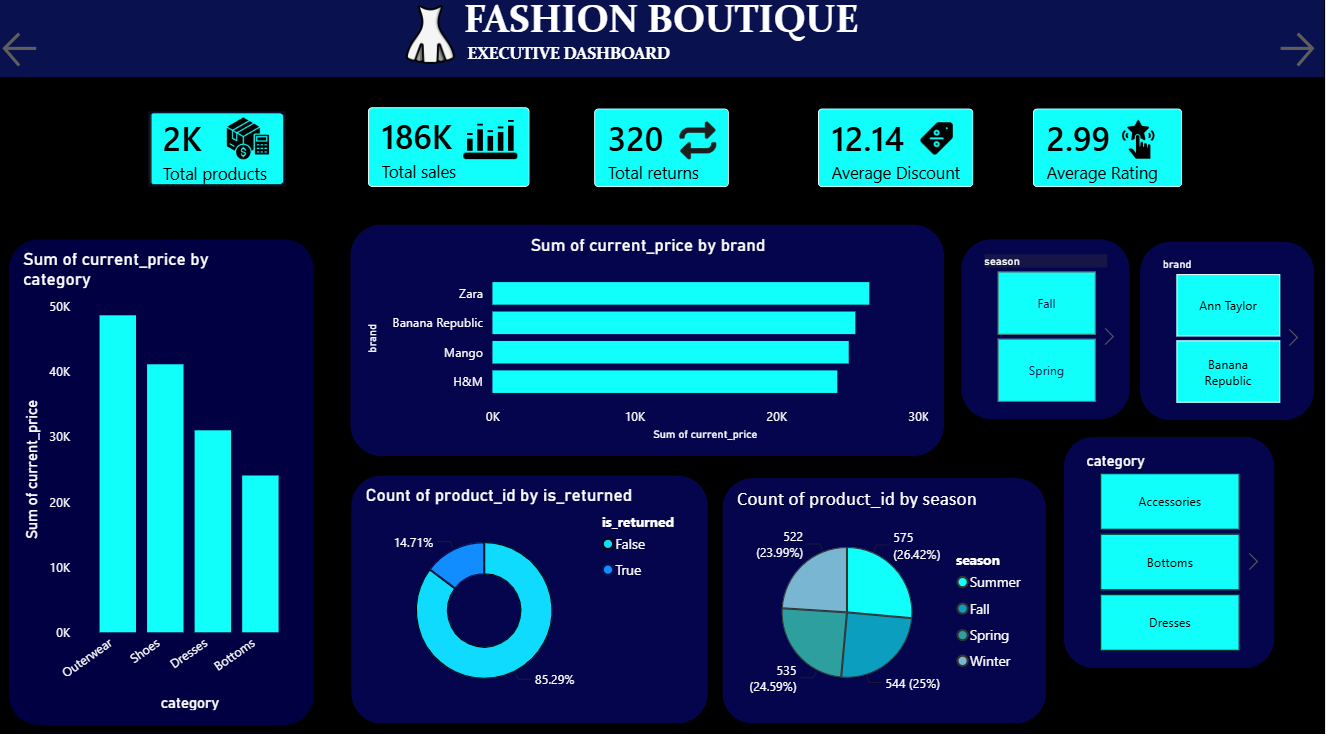

What the dashboard file says about the page in this screenshot:
{"tool":"powerbi","page":{"name":"EXECUTIVE DASHBOARD","canvas":[1280,720],"ordinal":0},"visuals":[{"type":"textbox","box":[0,0,1280.3,78],"z":0},{"type":"pieChart","fields":{"Category":["Fashion_boutique.season"],"Y":["CountNonNull(Fashion_boutique.product_id)"]},"box":[698,469.3,313.3,238],"z":1000},{"type":"slicer","fields":{"Values":["Fashion_boutique.category"]},"box":[1027.4,429,204.4,224.6],"z":2000},{"type":"slicer","fields":{"Values":["Fashion_boutique.brand"]},"box":[1101.4,240.7,169.4,173.5],"z":3000},{"type":"slicer","fields":{"Values":["Fashion_boutique.season"]},"box":[929.3,239.4,164.1,174.8],"z":4000},{"type":"clusteredColumnChart","fields":{"Category":["Fashion_boutique.category"],"Y":["Sum(Fashion_boutique.current_price)"]},"box":[9.4,239.4,295.9,470.7],"z":5000},{"type":"donutChart","fields":{"Category":["Fashion_boutique.is_returned"],"Y":["CountNonNull(Fashion_boutique.product_id)"]},"box":[340.2,466.7,345.6,240.7],"z":6000},{"type":"clusteredBarChart","fields":{"Category":["Fashion_boutique.brand"],"Y":["Sum(Fashion_boutique.current_price)"]},"box":[340.2,225.9,572.9,223.2],"z":7000},{"type":"cardVisual","fields":{"Data":["Fashion_boutique.Total products"]},"box":[118.3,88.8,186.9,126.4],"z":8000},{"type":"cardVisual","fields":{"Data":["Fashion_boutique.Total sales"]},"box":[340.2,95.5,191,111.6],"z":9000},{"type":"cardVisual","fields":{"Data":["Fashion_boutique.Total returns"]},"box":[558.1,96.8,164.1,110.3],"z":10000},{"type":"cardVisual","fields":{"Data":["Fashion_boutique.Average Discount"]},"box":[774.6,96.8,184.2,110.3],"z":11000},{"type":"cardVisual","fields":{"Data":["Fashion_boutique.Average Rating"]},"box":[981.7,96.8,178.9,110.3],"z":12000},{"type":"image","box":[1071.8,123.7,57.8,37.7],"z":13000},{"type":"image","box":[446.5,111.6,57.8,61.9],"z":14000},{"type":"image","box":[883.5,126.4,45.7,30.9],"z":15000},{"type":"image","box":[212.5,121,57.8,43],"z":16000},{"type":"image","box":[652.2,123.7,45.7,40.3],"z":17000},{"type":"image","box":[388.5,0,57.9,83.2],"z":18000},{"type":"actionButton","box":[0,35,76.7,43],"z":18001},{"type":"actionButton","box":[1231.9,35,48.4,43],"z":18002}]}

Visuals, with their boxes in screenshot pixels (x1, y1, x2, y2), scaled from the page's 1280x720 canvas onto the 1326x734 screenshot:
textbox: 0 0 1325 80
pieChart - Fashion_boutique.season x CountNonNull(Fashion_boutique.product_id): 723 478 1048 721
slicer - Fashion_boutique.category: 1064 437 1276 666
slicer - Fashion_boutique.brand: 1141 245 1316 422
slicer - Fashion_boutique.season: 963 244 1133 422
clusteredColumnChart - Fashion_boutique.category x Sum(Fashion_boutique.current_price): 10 244 316 724
donutChart - Fashion_boutique.is_returned x CountNonNull(Fashion_boutique.product_id): 352 476 710 721
clusteredBarChart - Fashion_boutique.brand x Sum(Fashion_boutique.current_price): 352 230 946 458
cardVisual - Fashion_boutique.Total products: 123 91 316 219
cardVisual - Fashion_boutique.Total sales: 352 97 550 211
cardVisual - Fashion_boutique.Total returns: 578 99 748 211
cardVisual - Fashion_boutique.Average Discount: 802 99 993 211
cardVisual - Fashion_boutique.Average Rating: 1017 99 1202 211
image: 1110 126 1170 165
image: 463 114 522 177
image: 915 129 963 160
image: 220 123 280 167
image: 676 126 723 167
image: 402 0 462 85
actionButton: 0 36 79 80
actionButton: 1276 36 1325 80
